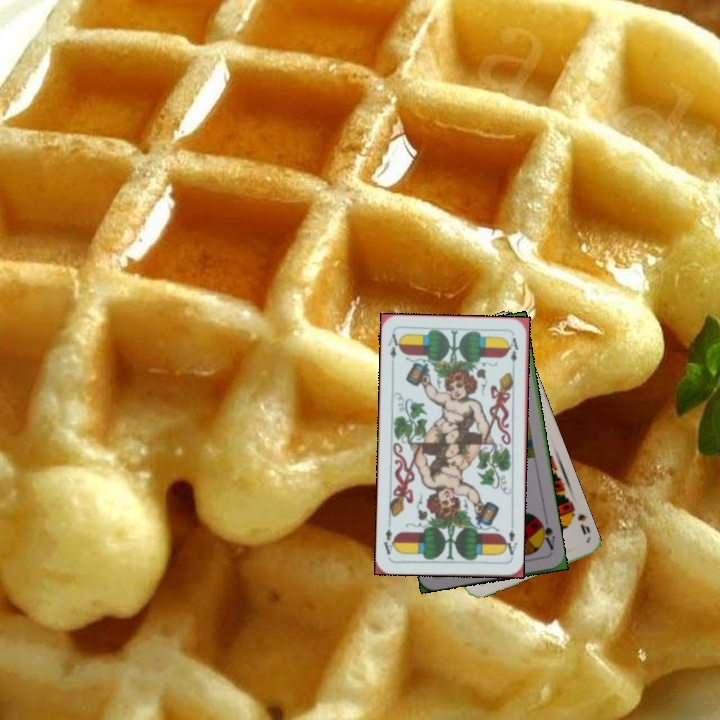EA: (384, 330, 403, 369), (499, 526, 519, 561)
S9: (565, 502, 593, 537)
SA: (535, 514, 558, 553)
